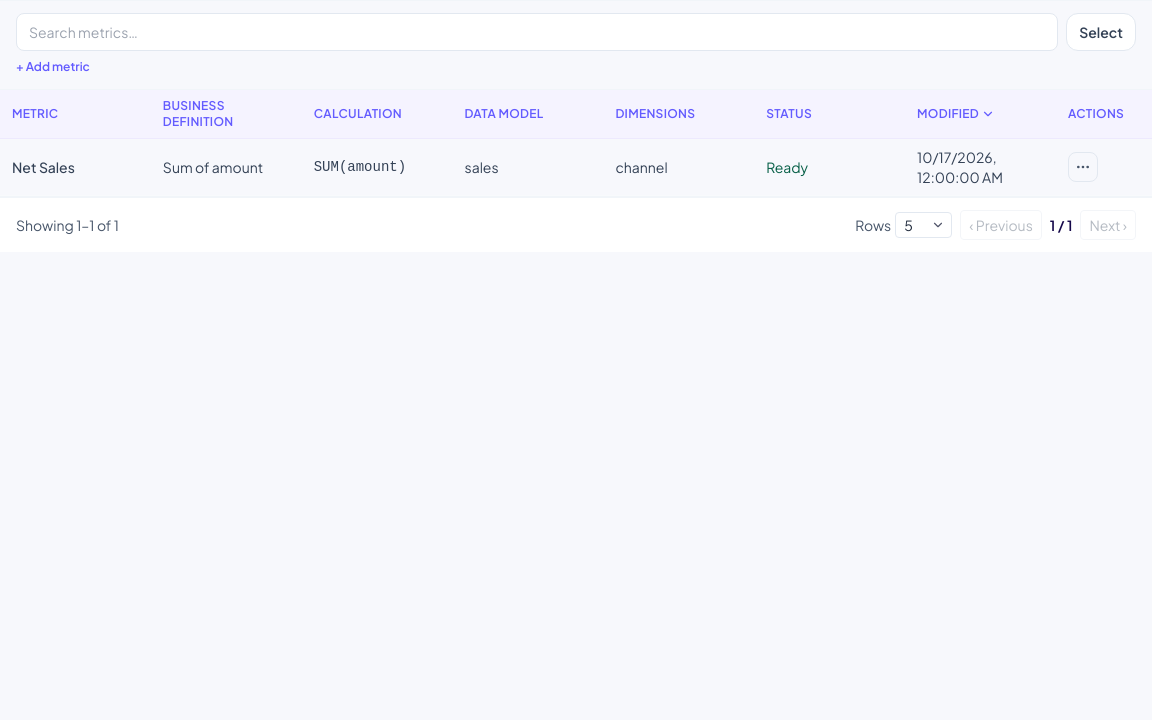
it: SEM-2A matrix › SEM-2A-012 Metric edit
Check: the text "Net Sales" is shown, box [0,138,151,196]
Click the button named "Actions for Net Sales" at (1083, 167), box [1068,152,1098,182]
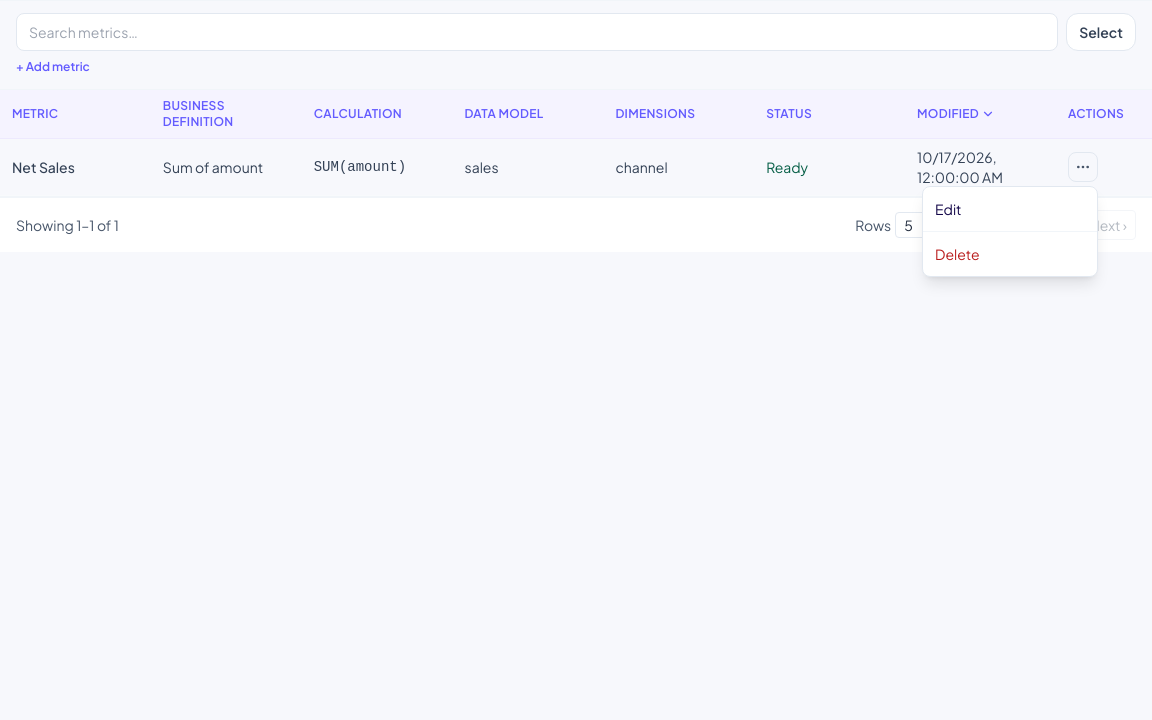
Click the menu item "Edit" at (1010, 209), box [923,191,1097,227]
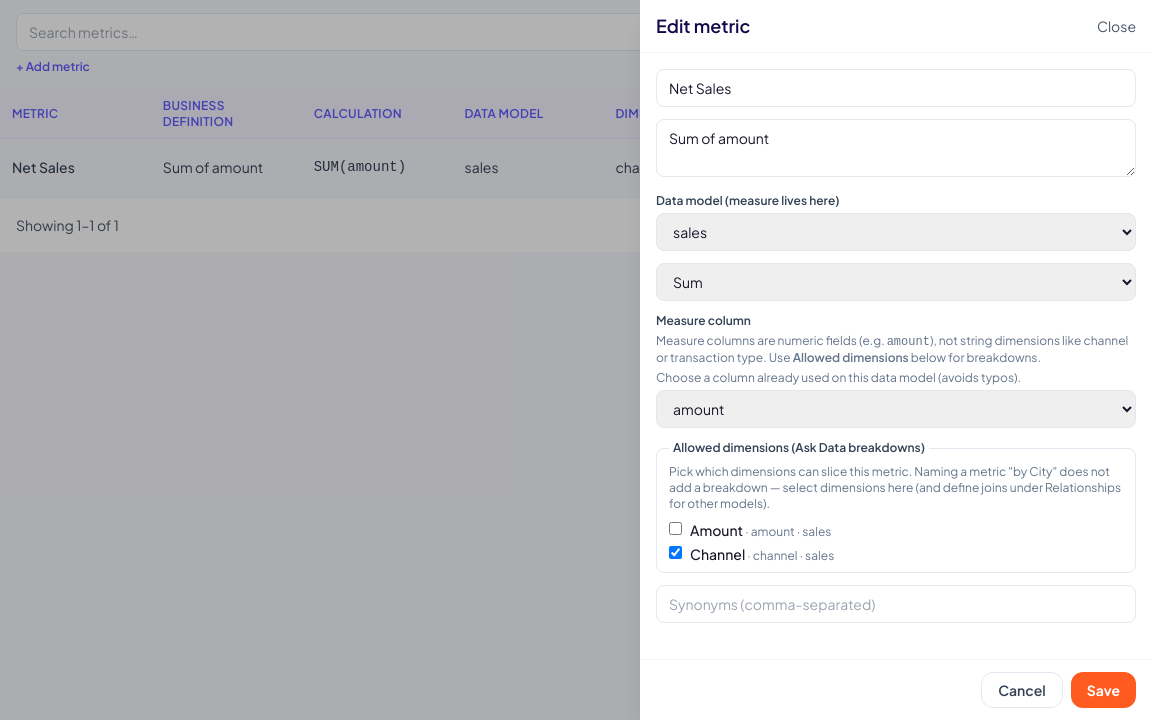
Check: the heading "Edit metric" is shown, box [656,12,750,40]
